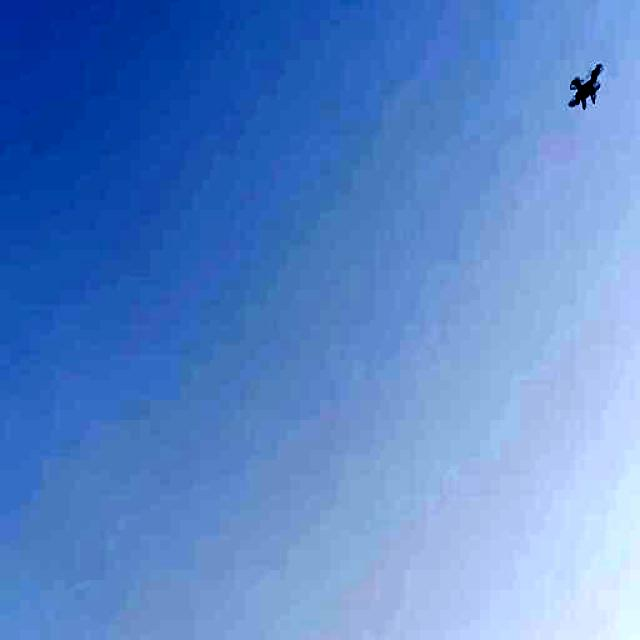bird: (566, 62, 606, 114)
